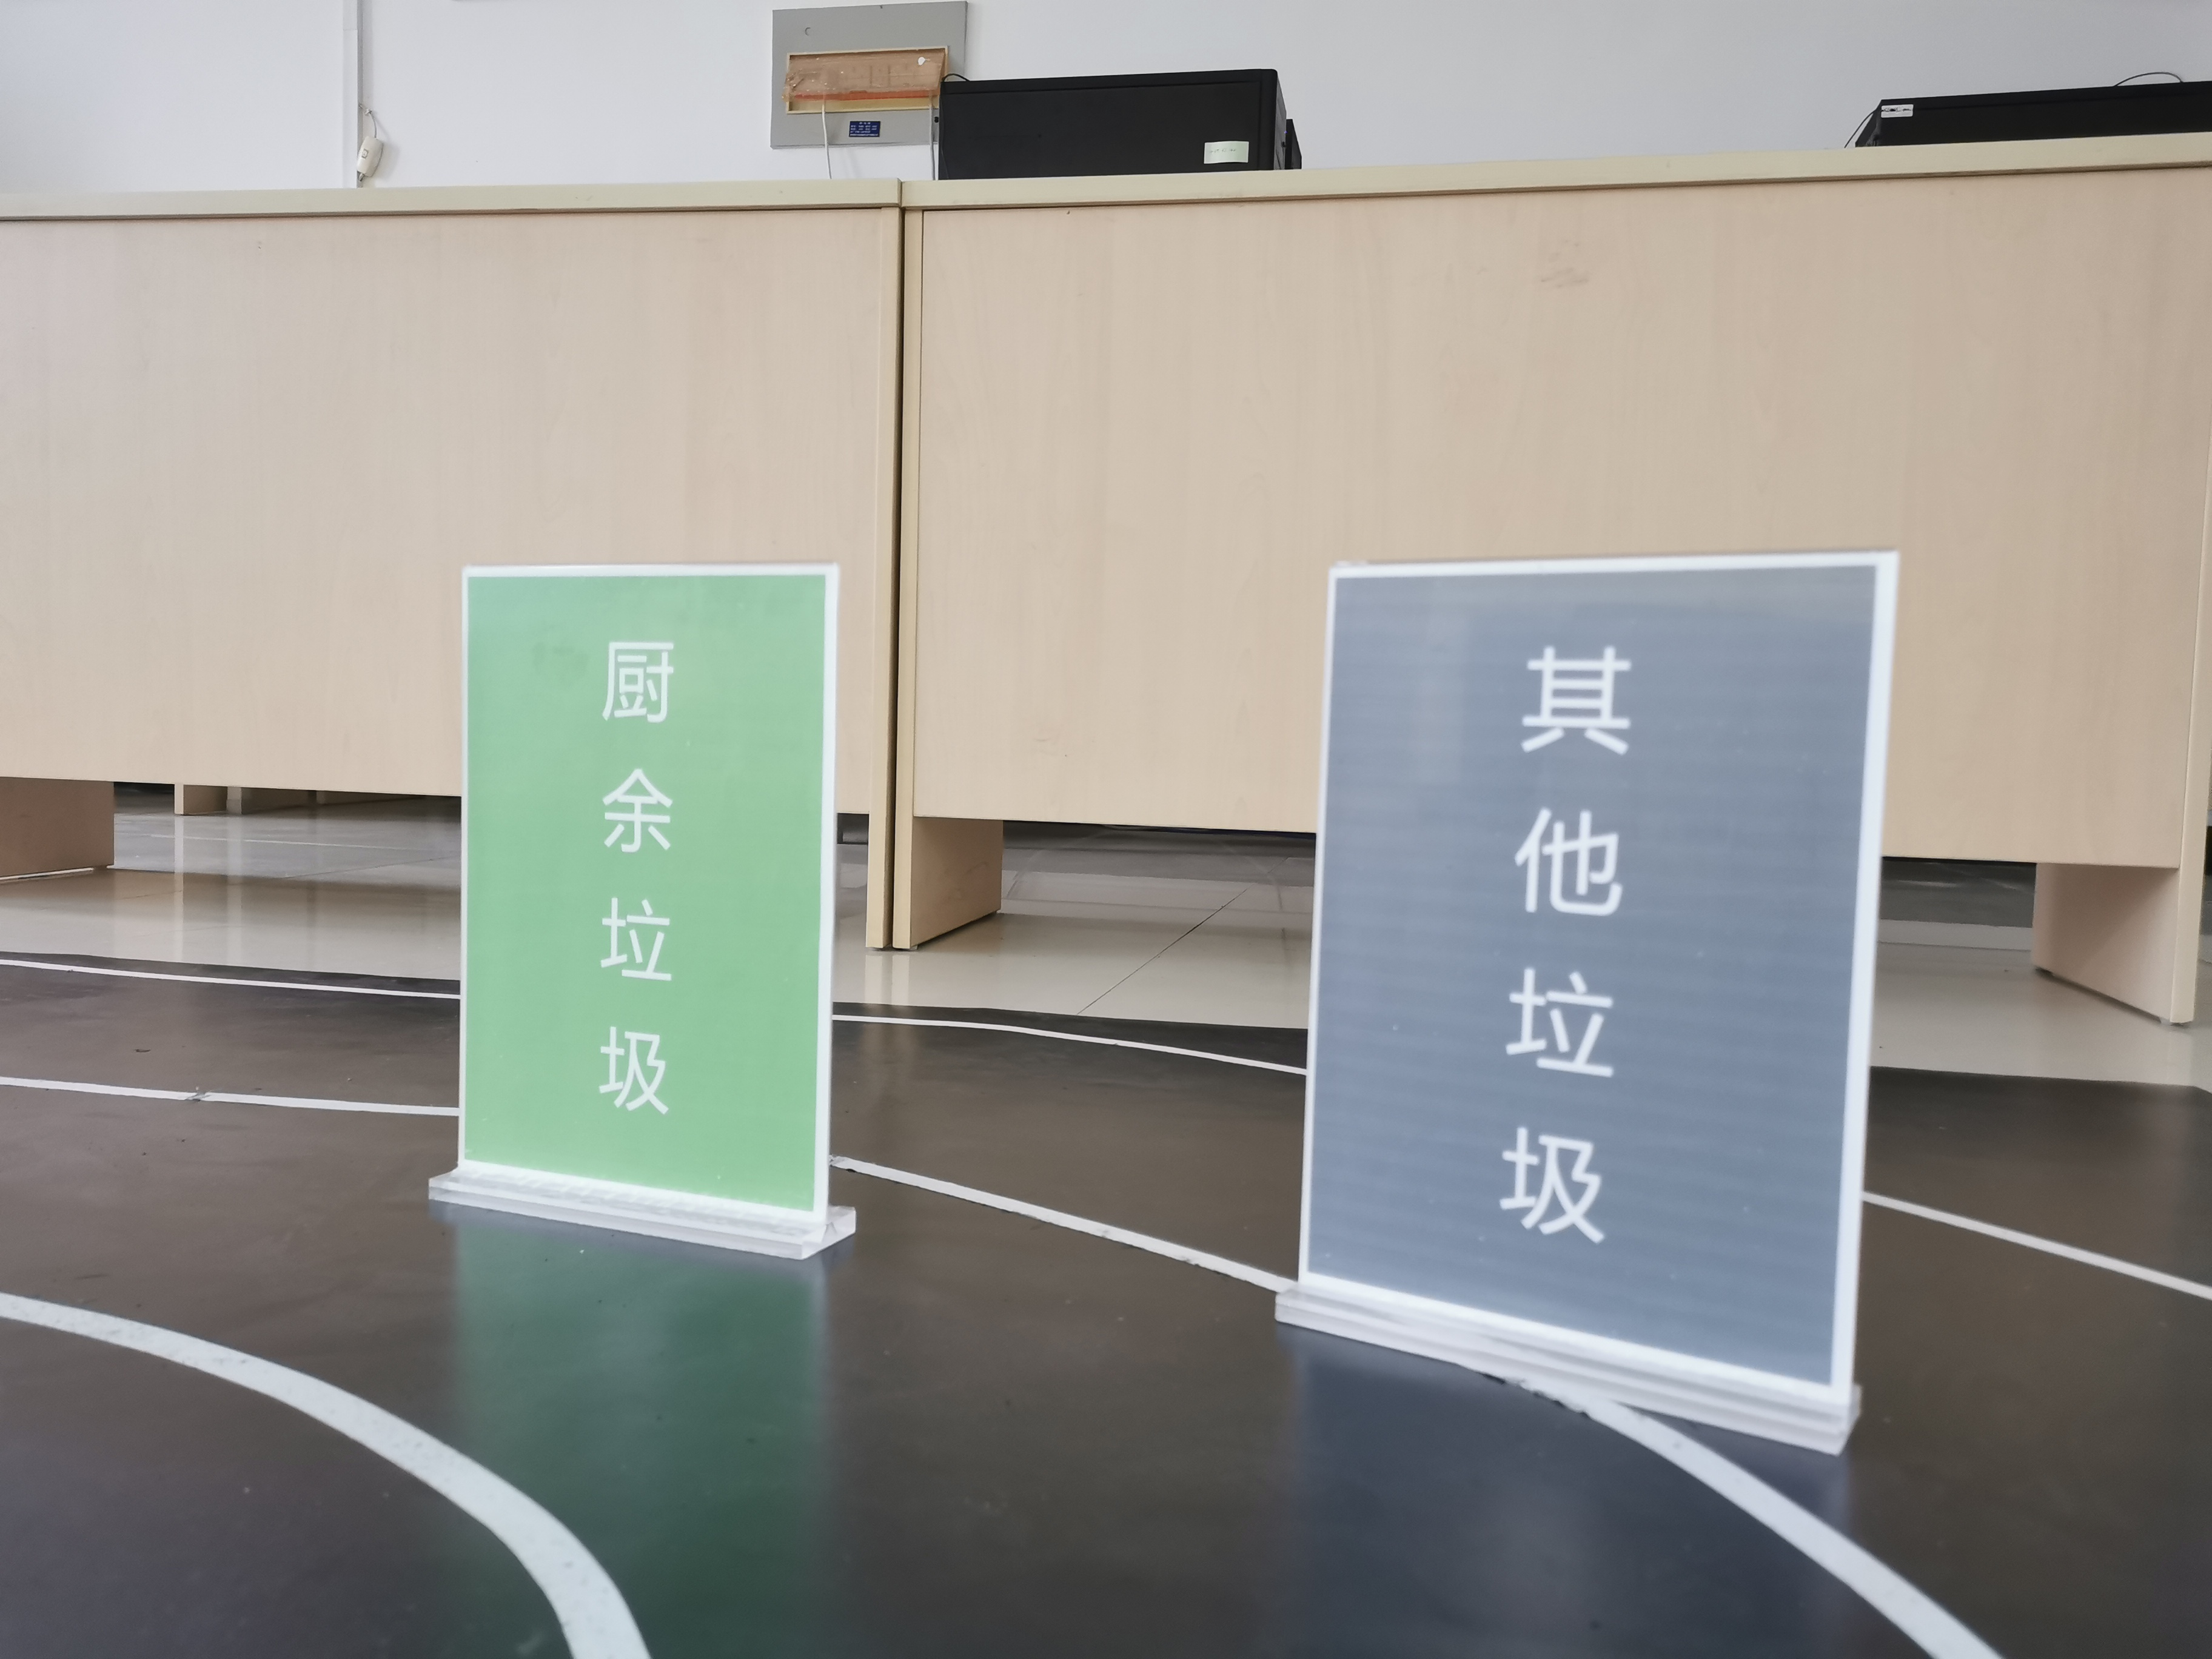black: (1341, 591, 1834, 1277)
green: (475, 584, 810, 1161)
